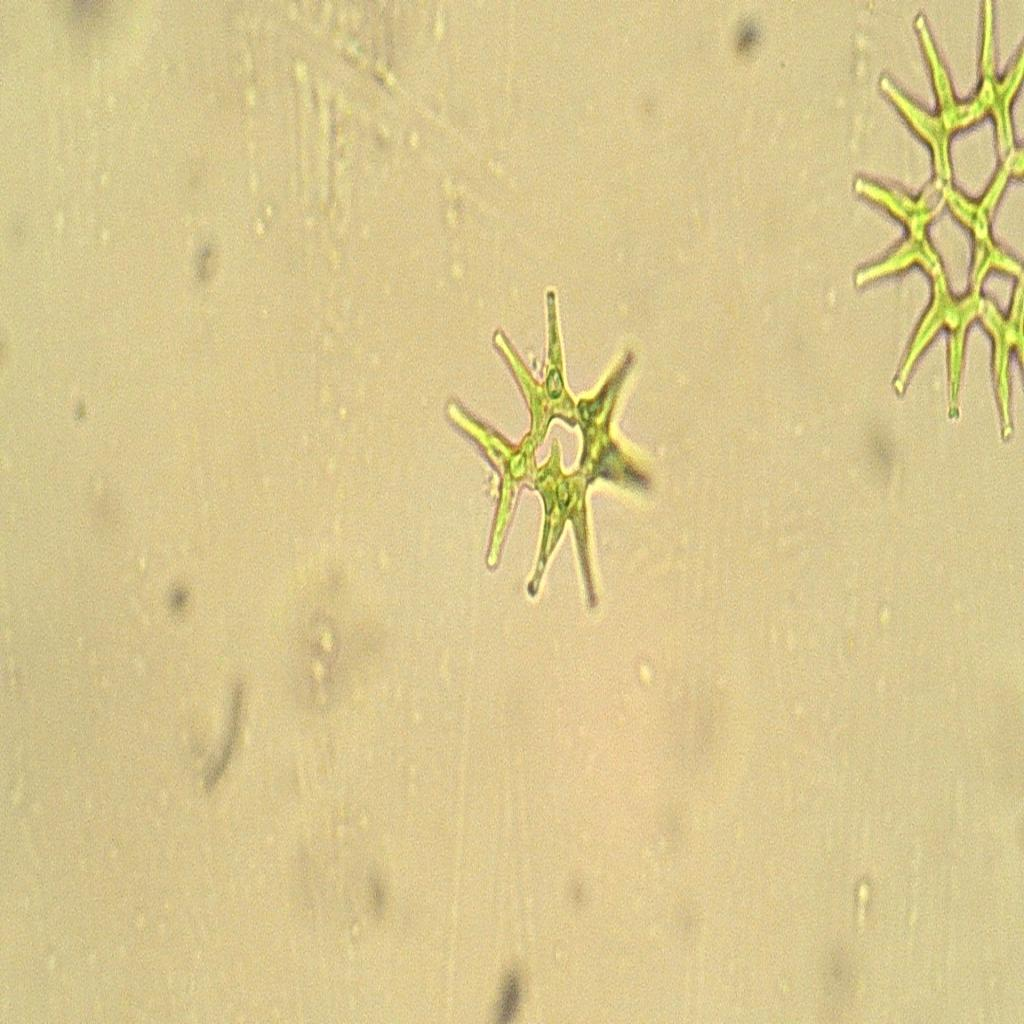Pediastrum_CF: (434, 273, 680, 638)
